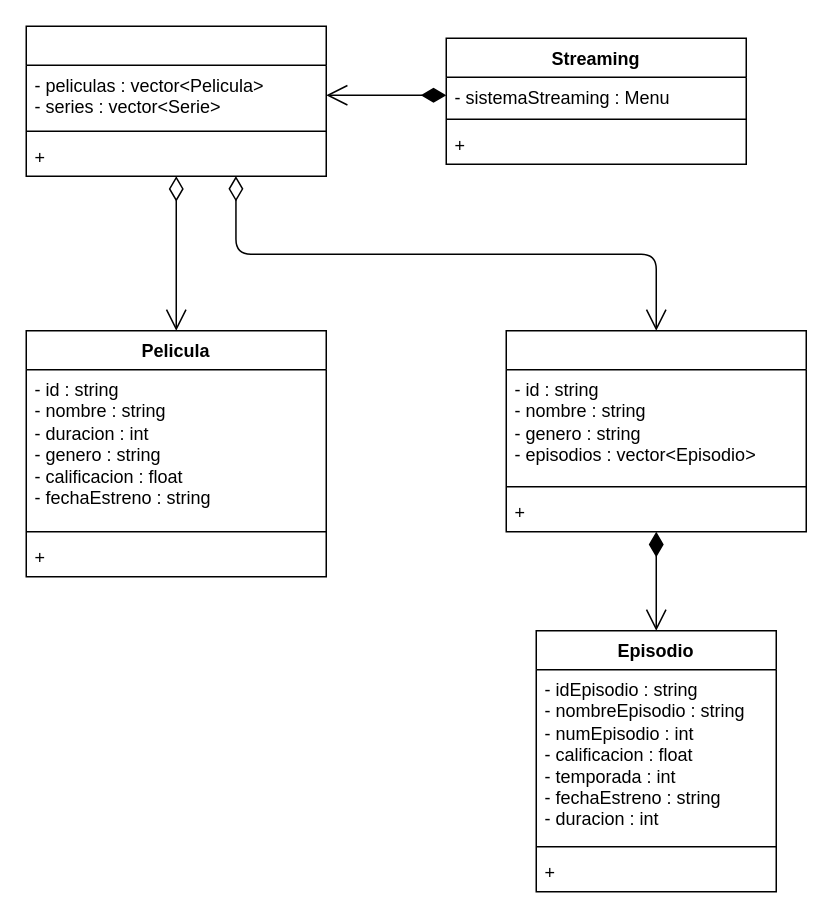
Some shapes in this 833 by 923 pixel diagram are drawn without their labels. Here are the shapes that lost their labels. From the top down, the box of each, then its label:
(25, 25, 326, 176): Menu
(505, 329, 806, 532): Serie
